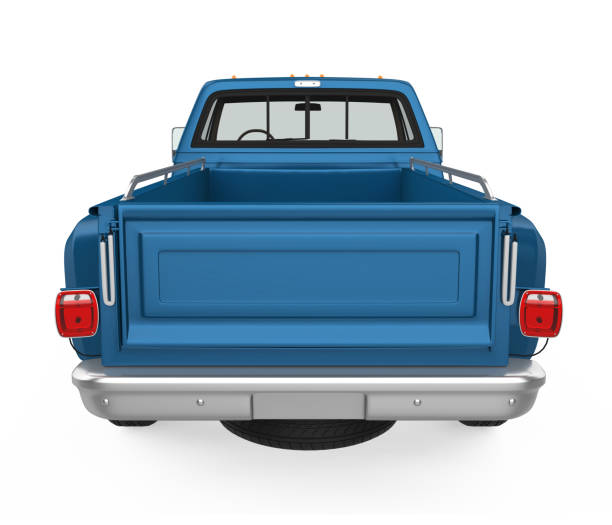Truck: (53, 73, 562, 450)
